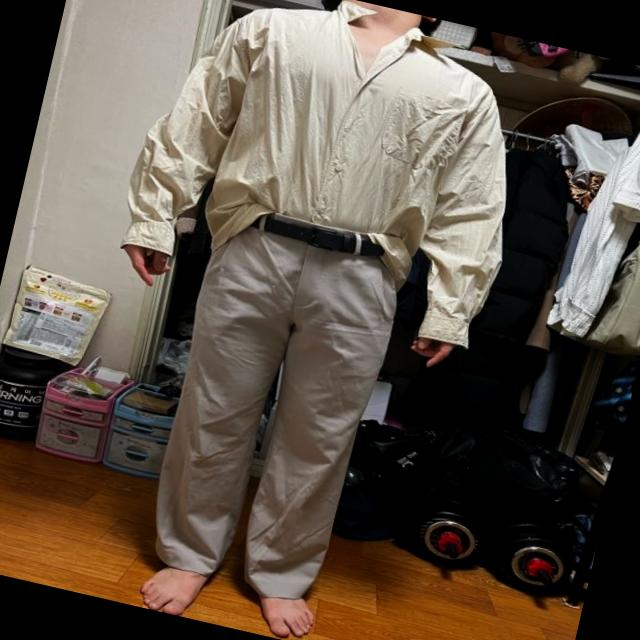cottonpants: (133, 204, 412, 614)
shirt: (110, 0, 544, 353)
